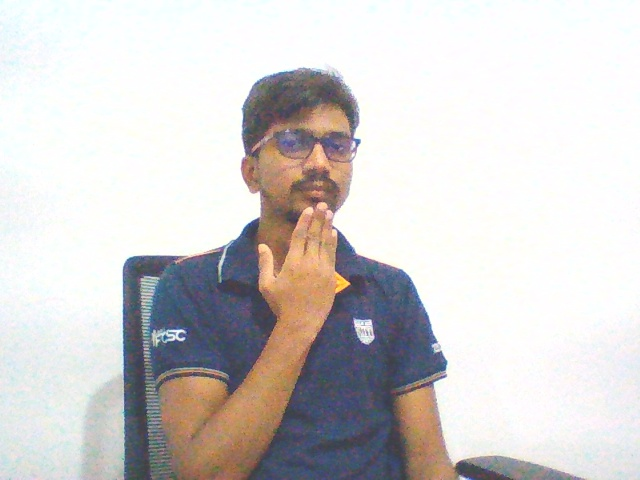mango: (246, 191, 350, 345)
